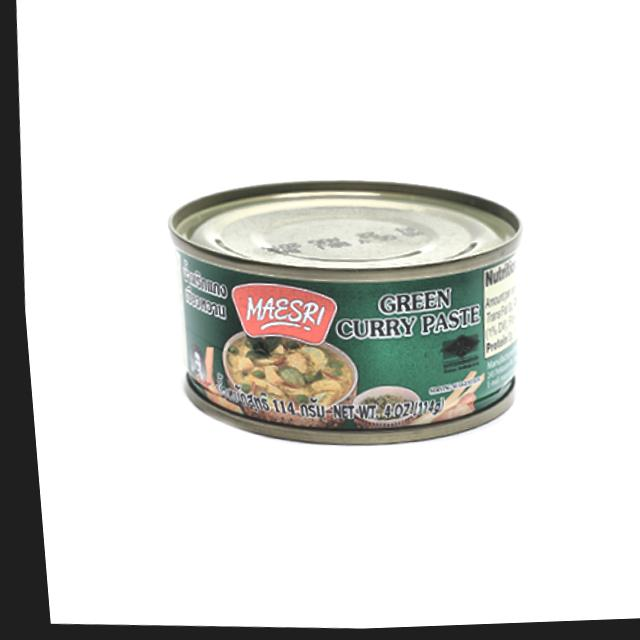Cans: (151, 170, 532, 453)
